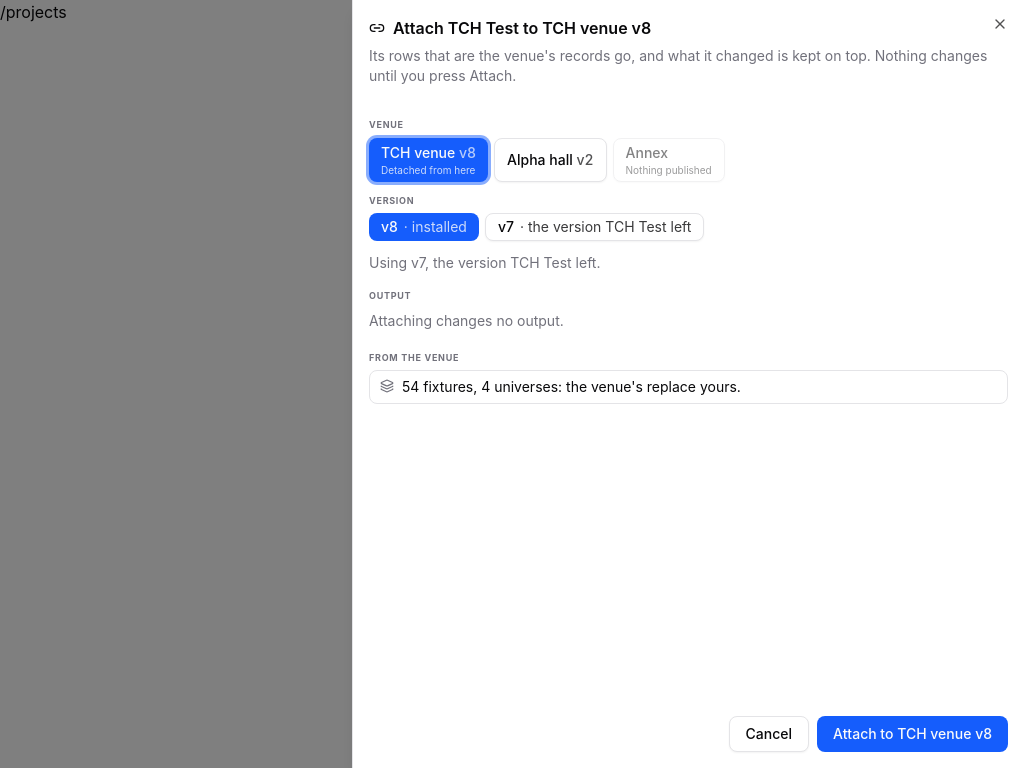
Test: answers › stays open while the attach runs, and draws its refusal
The width and height of the screenshot is (1024, 768).
Click the button "Attach to TCH venue v8" at (912,734), box [817,716,1008,752]
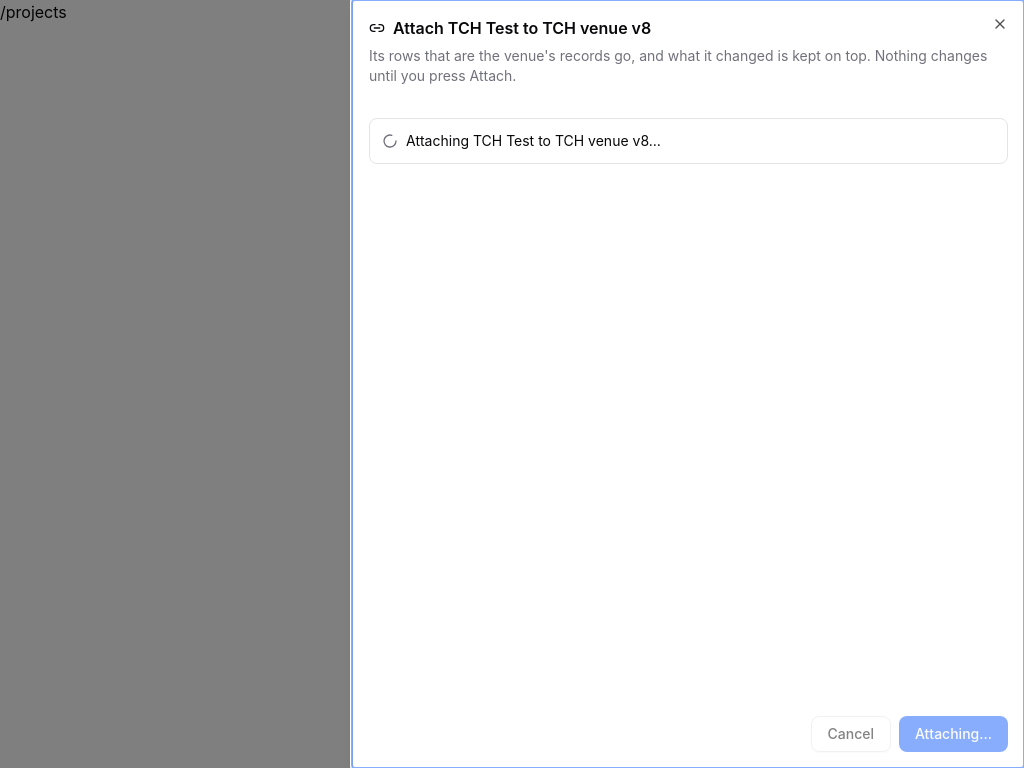
Expected: the message reads "Attaching TCH Test to TCH venue v8…", [369,118,1008,164]
Press Escape in the dialog
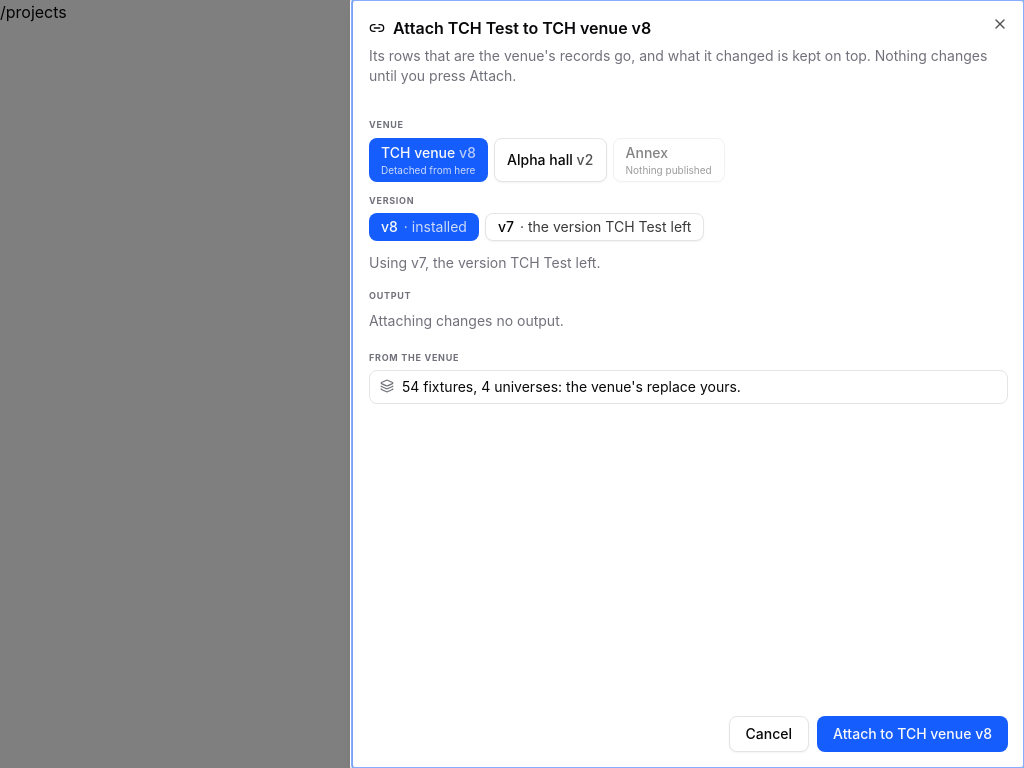
Expected: the text with test id "where" reads "/projects", [0,2,67,22]
Expected: the message "Attaching TCH Test to TCH venue v8…" is gone
